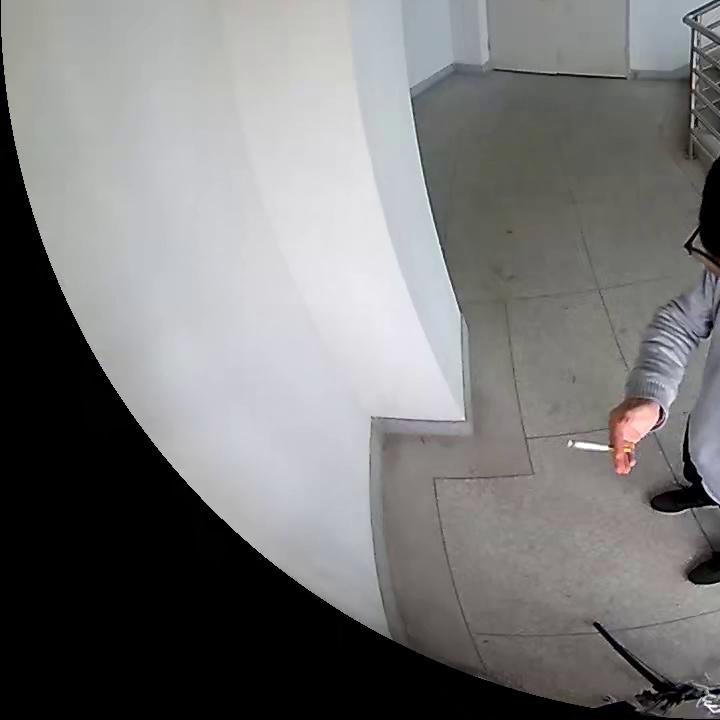handsmoke: (563, 400, 661, 478)
